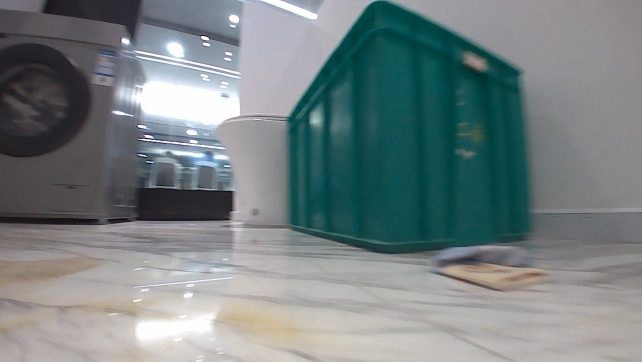socks: (428, 240, 553, 296)
toilet: (214, 113, 290, 228)
washing_machine: (0, 7, 149, 226)
